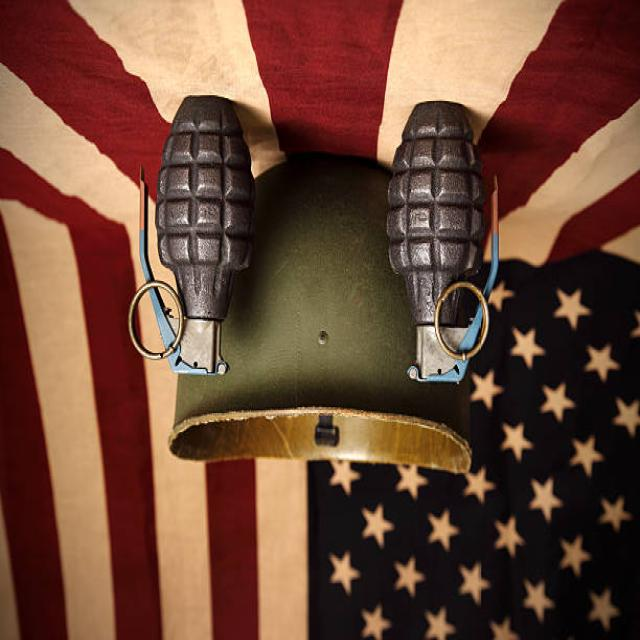grenade: (131, 87, 261, 382), (386, 97, 504, 389)
